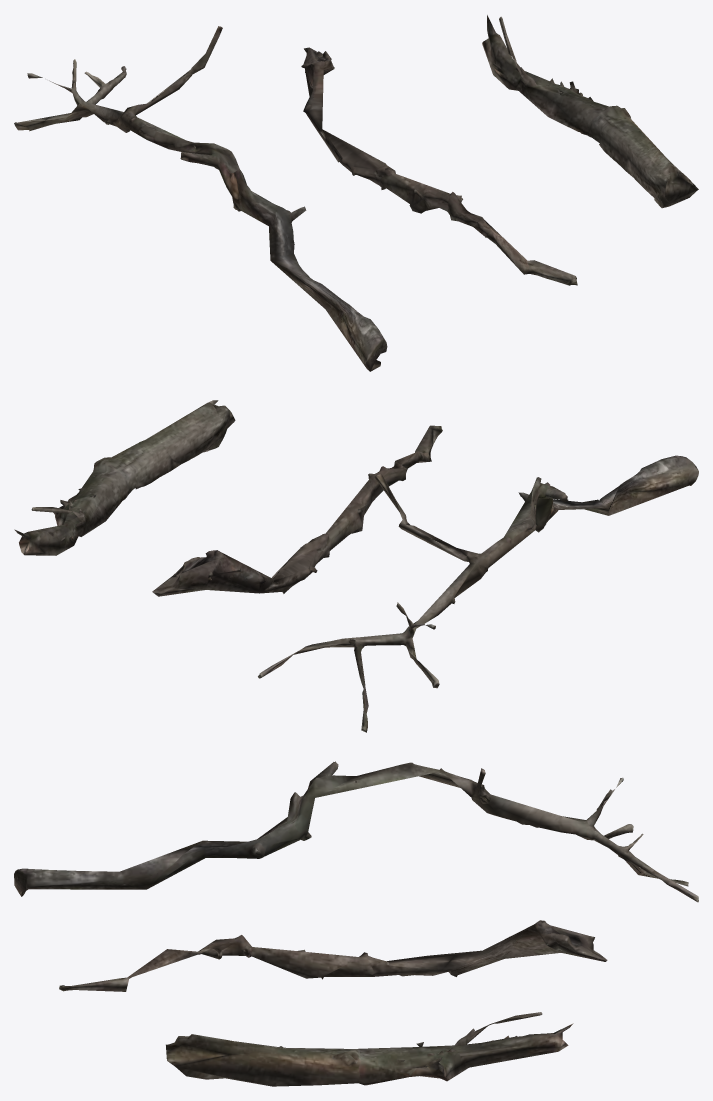
File: branches_lo.glb
3 renders of one model, top to bottom at view 1: azimuth 30°, elevation 25°; view 2: azimuth 150°, elevation 25°; view 3: azimuth 270°, elevation 25°, orthographic. The views are drawn at different scales.
Parts seen in each view (by area): view 1: dry_branches_medium_01_a, dry_branches_medium_01_c, dry_branches_medium_01_b; view 2: dry_branches_medium_01_a, dry_branches_medium_01_c, dry_branches_medium_01_b; view 3: dry_branches_medium_01_a, dry_branches_medium_01_c, dry_branches_medium_01_b.
Boxes of the visible parts, bbox=[...] form: dry_branches_medium_01_a: bbox=[14, 26, 387, 371]; dry_branches_medium_01_c: bbox=[482, 15, 698, 208]; dry_branches_medium_01_b: bbox=[301, 47, 577, 285]; dry_branches_medium_01_a: bbox=[258, 455, 698, 732]; dry_branches_medium_01_c: bbox=[14, 400, 235, 555]; dry_branches_medium_01_b: bbox=[152, 425, 442, 596]; dry_branches_medium_01_a: bbox=[14, 761, 698, 902]; dry_branches_medium_01_c: bbox=[166, 1012, 573, 1086]; dry_branches_medium_01_b: bbox=[59, 920, 607, 991].
Size of the model in its own units: 1.05 by 0.34 by 1.3.
Materials: 1 (1 with a texture image).
